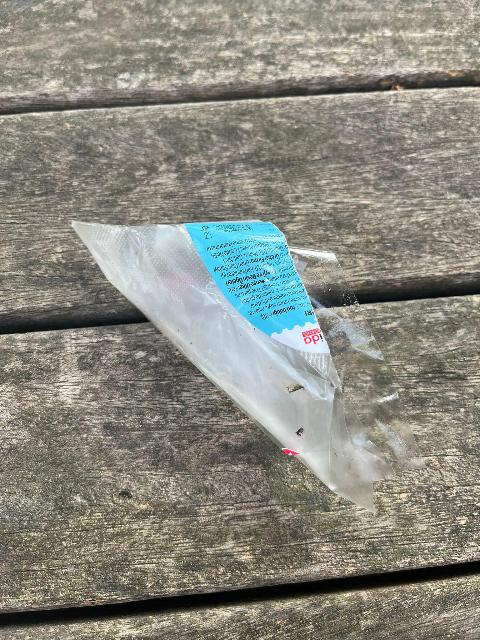Plastik: (66, 205, 406, 517)
